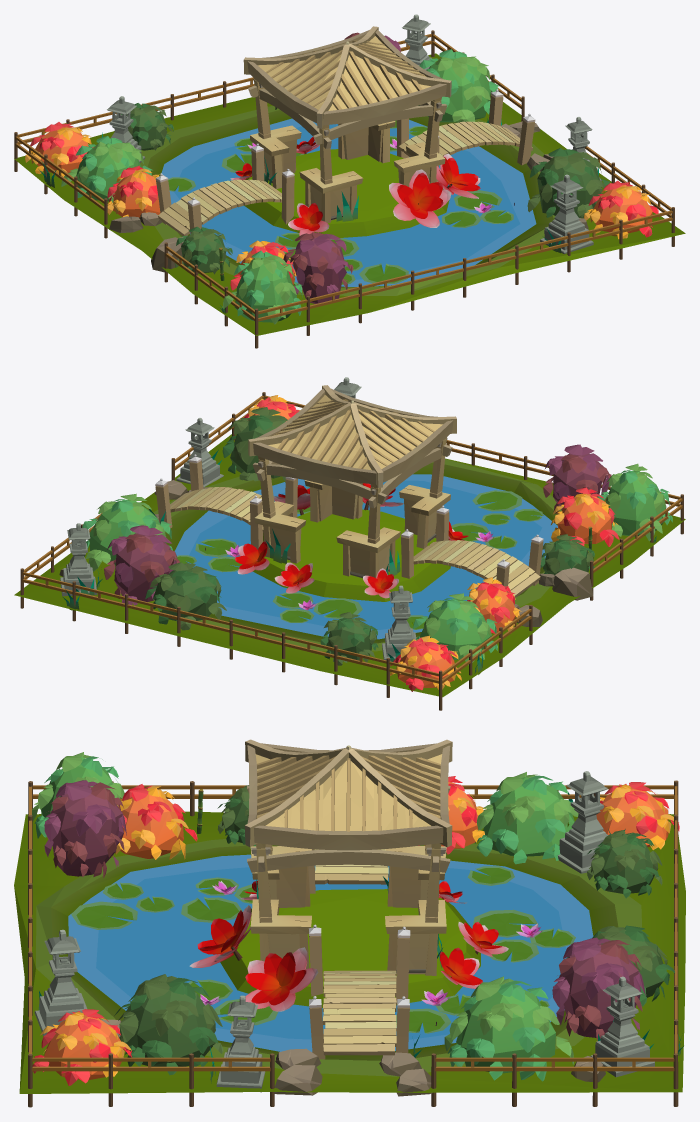
3 renders of one model, top to bottom at view 1: azimuth 30°, elevation 25°; view 2: azimuth 150°, elevation 25°; view 3: azimuth 270°, elevation 25°, orthographic. The views are drawn at different scales.
Visible parts, largest first — view 1: o-3, bushes; view 2: o-3, bushes; view 3: o-3, bushes.
Part boxes in pixels (x1,y1,x2,y2): o-3: (14, 14, 685, 348); bushes: (25, 32, 659, 324); o-3: (14, 377, 685, 710); bushes: (82, 395, 672, 691); o-3: (14, 739, 685, 1107); bushes: (32, 752, 679, 1085).
Size of the model in its own units: 0.9951 by 0.3741 by 0.9956.
